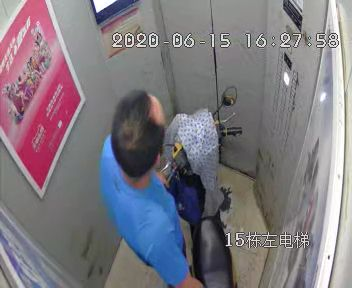Electric-bicycle: (159, 84, 242, 287)
